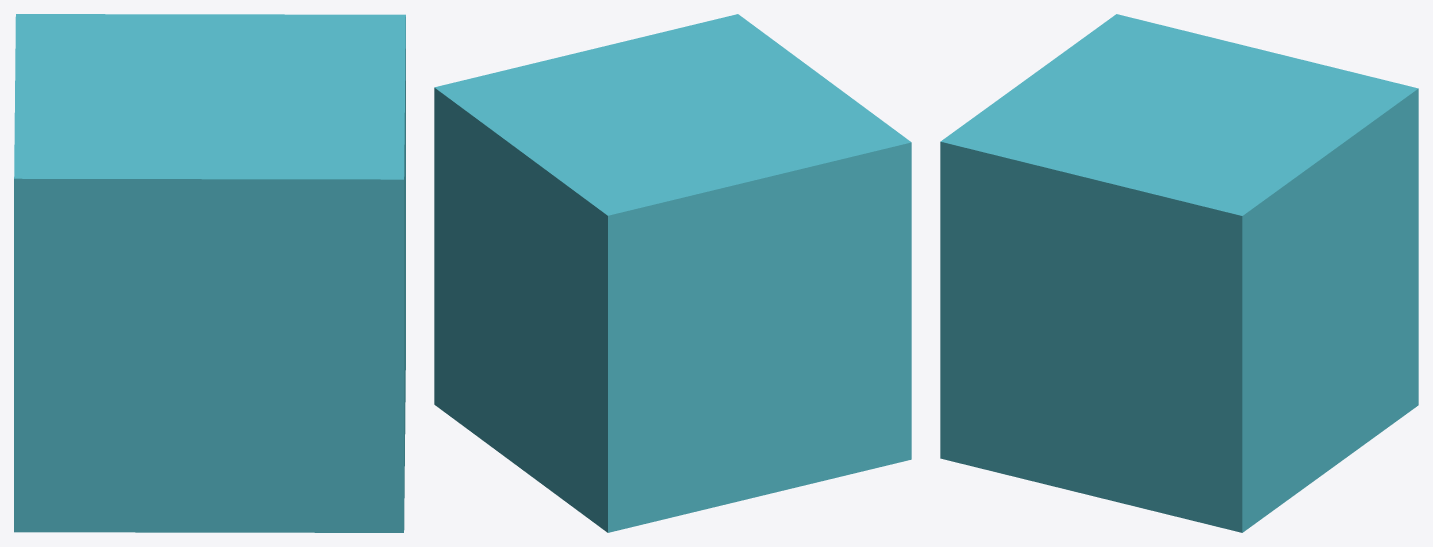
The model's file is 1011_chimney.glb.
3 renders of one model, left to right at view 1: azimuth 30°, elevation 25°; view 2: azimuth 150°, elevation 25°; view 3: azimuth 270°, elevation 25°, orthographic. The views are drawn at different scales.
Parts seen in each view (by area): view 1: Box004; view 2: Box004; view 3: Box004.
Boxes of the visible parts, left/top/right/bottom form: Box004: left=14, top=14, right=405, bottom=532; Box004: left=434, top=14, right=911, bottom=532; Box004: left=940, top=14, right=1418, bottom=532.
Size of the model in its own units: 1.14 by 0.8302 by 1.14.
